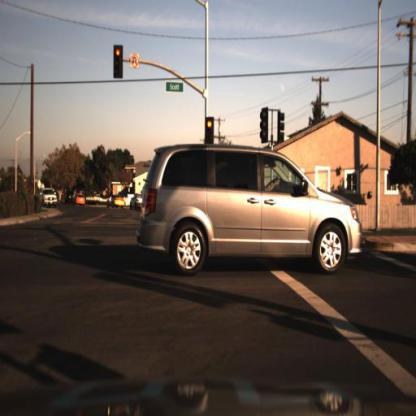car: (136, 142, 364, 274), (129, 189, 151, 213), (39, 186, 58, 208), (106, 192, 126, 209), (107, 194, 123, 210), (62, 188, 77, 205), (72, 192, 86, 208), (128, 192, 140, 210), (74, 190, 86, 206)
trafficLight-Red: (111, 42, 125, 84), (203, 112, 215, 151)
